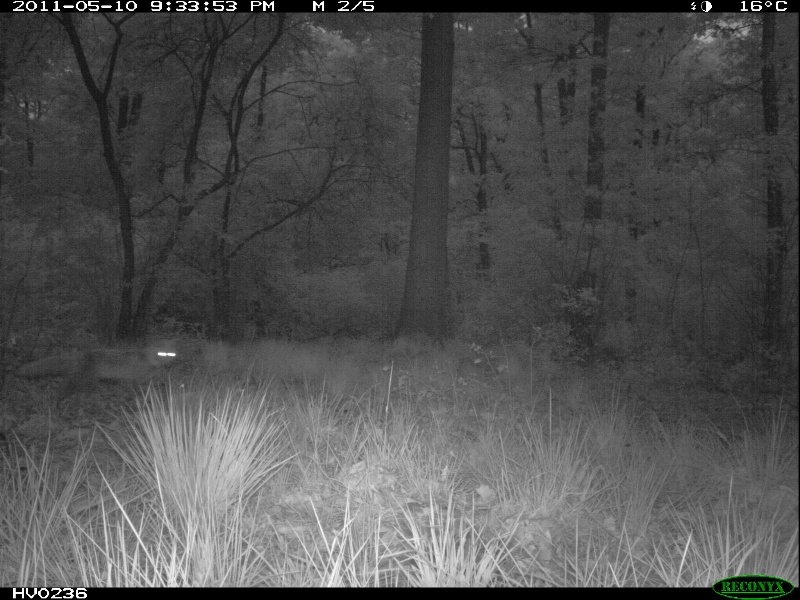fox: (9, 337, 187, 394)
